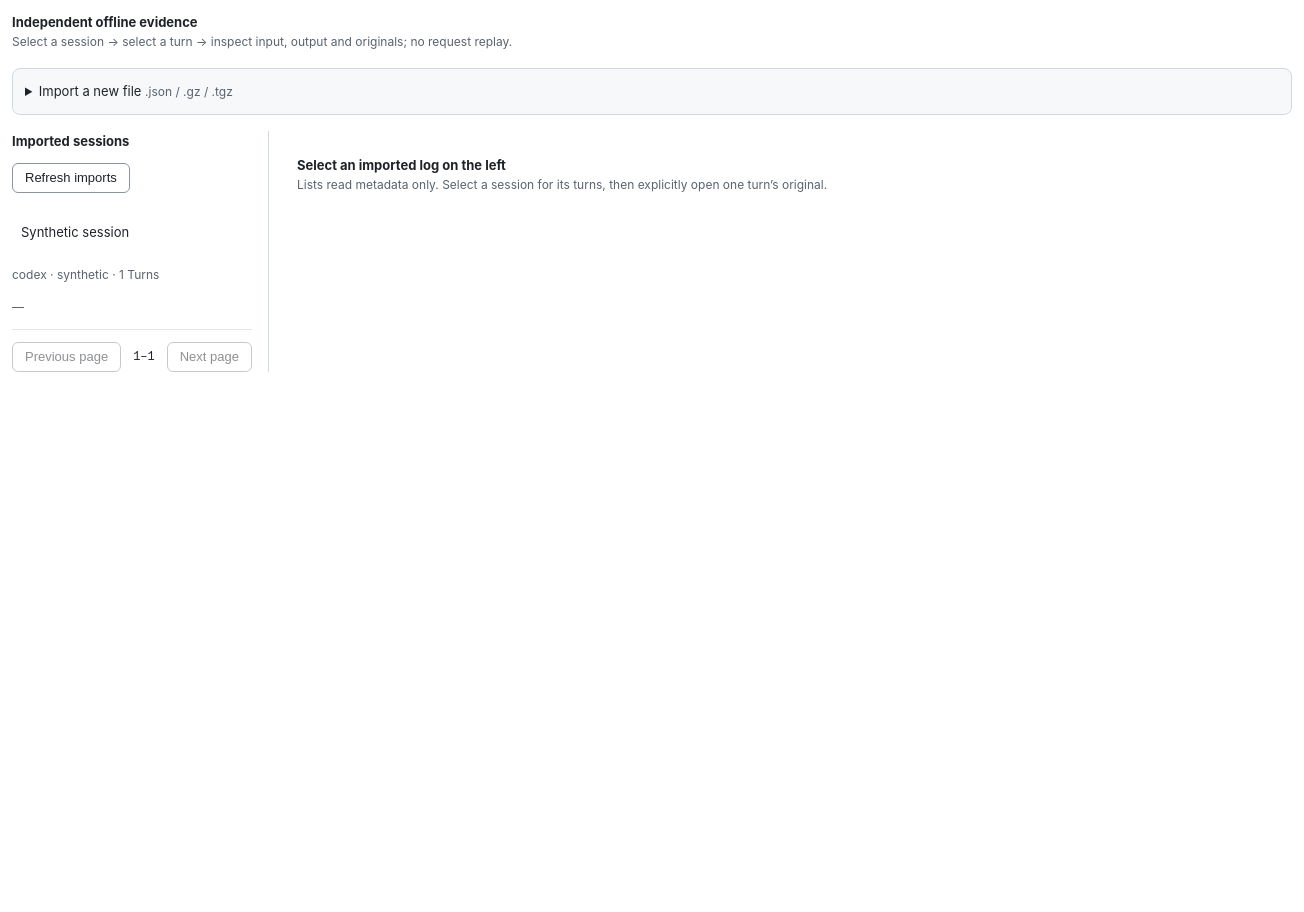
Scenario: lazy TraceLog import inspection › pages metadata only and clears a selected turn before moving to another page
This screenshot has width=1304, height=912.
Click the button "Synthetic session": (132, 235) [12,213,252,257]
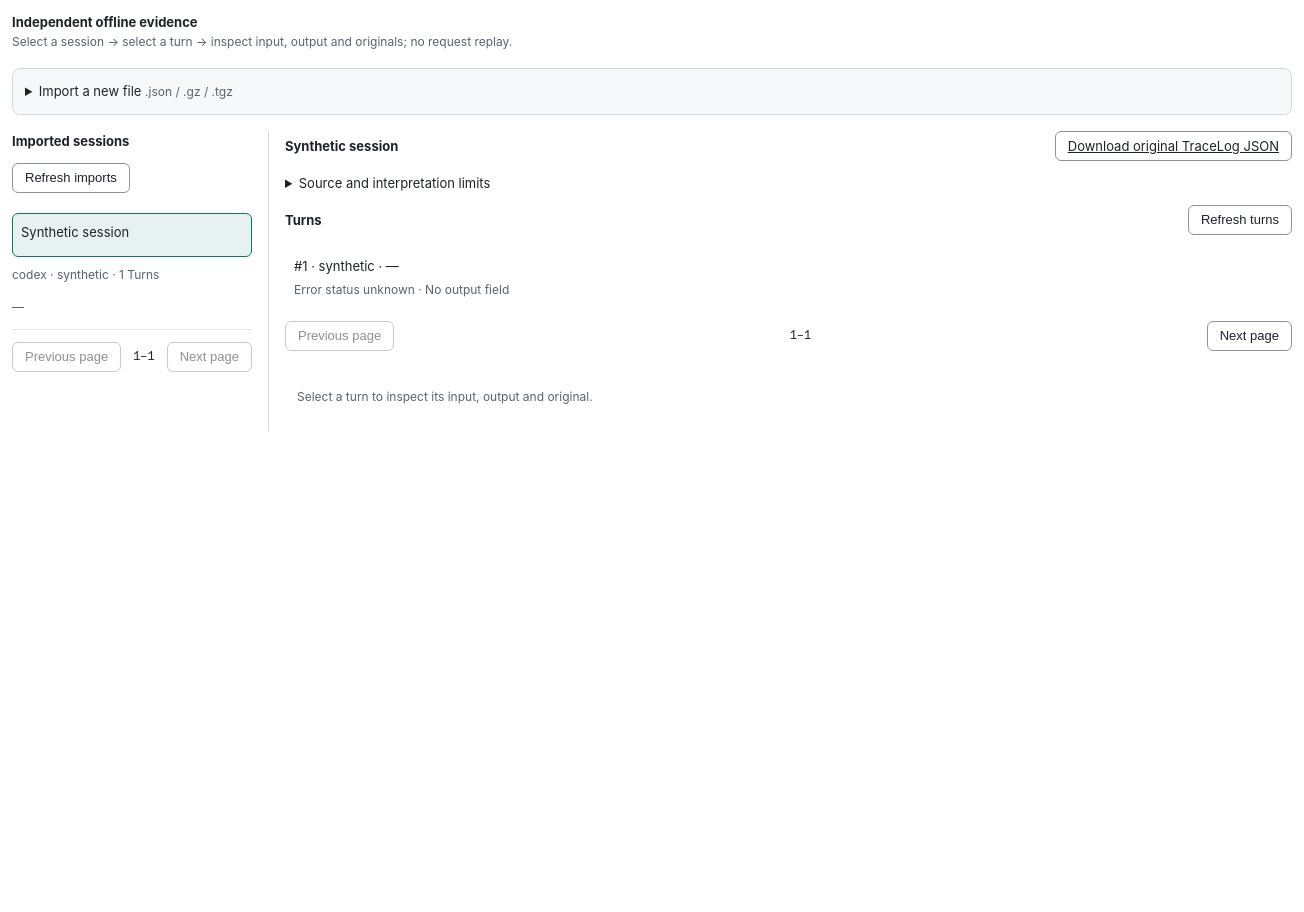
Click the button "#1 · synthetic · — Error status unknown · No output field": (347, 266) [285,247,1292,309]
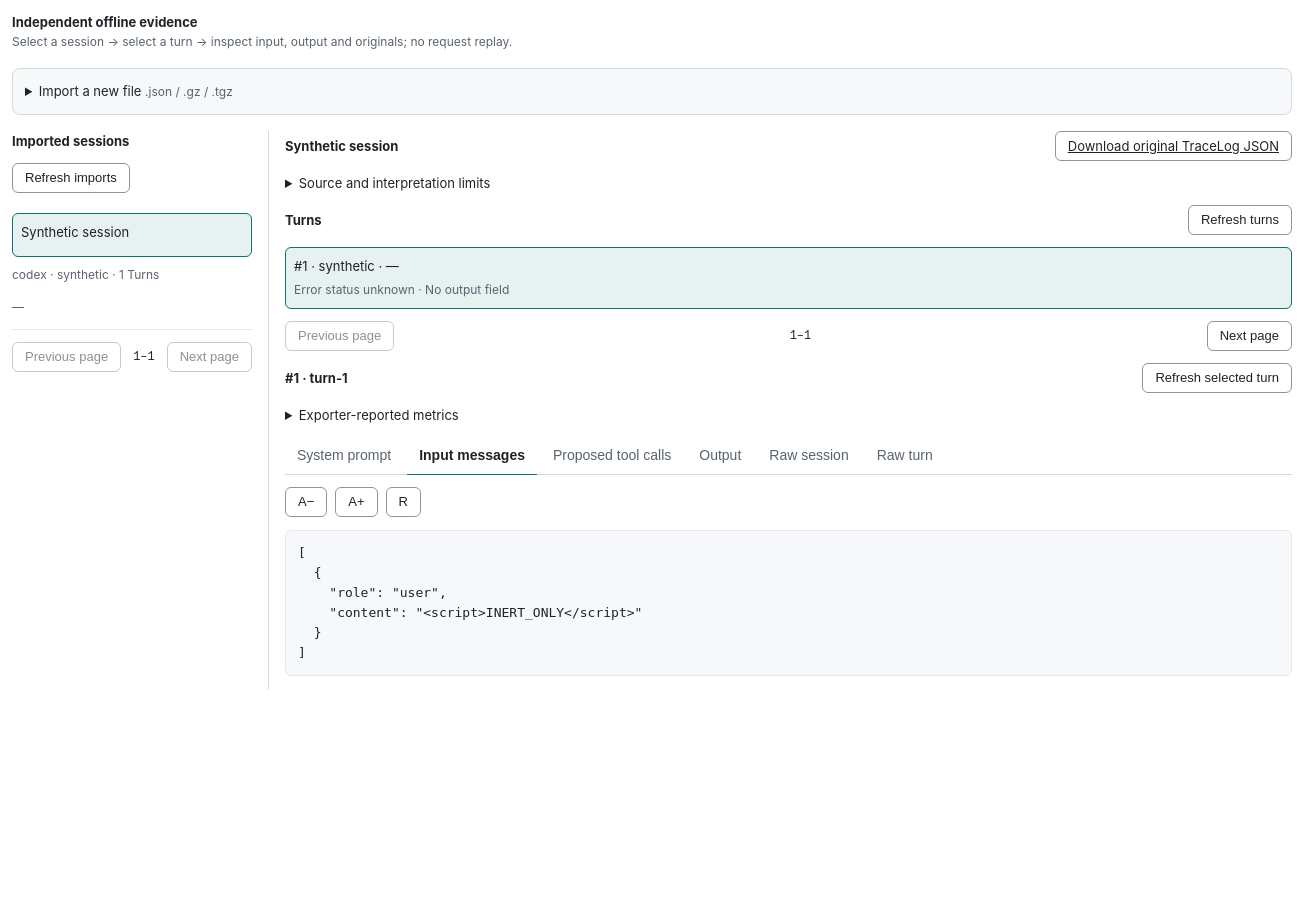
Expected: the text "INERT_ONLY" is shown, [298,545,642,660]
Click the button "Next page" below "Download original TraceLog JSON": (1249, 336) [1207,321,1292,351]
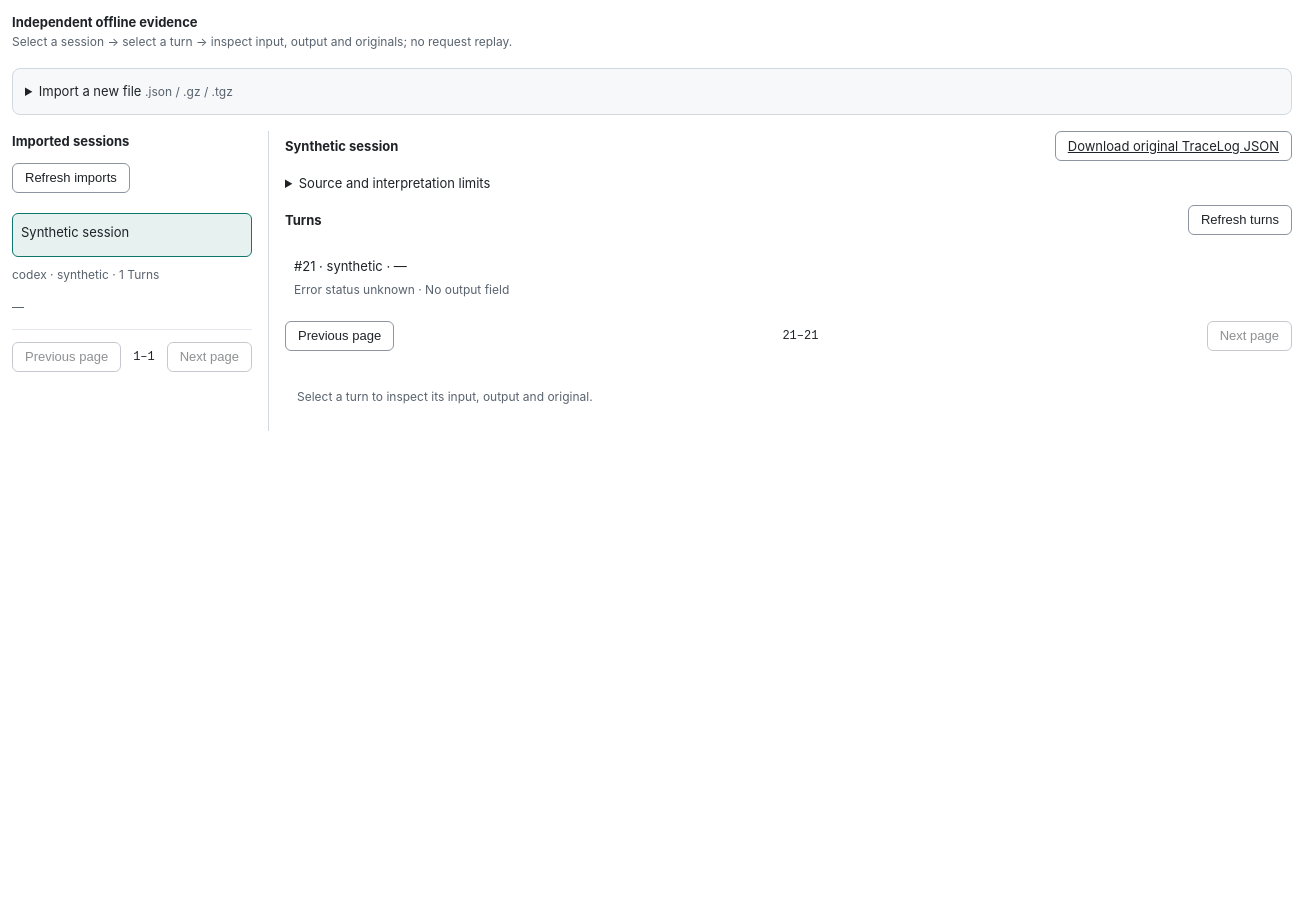
Expected: the text "INERT_ONLY" is gone
Expected: the navigation bar named "Turns pagination" shows "21–21", [782,329,818,343]
